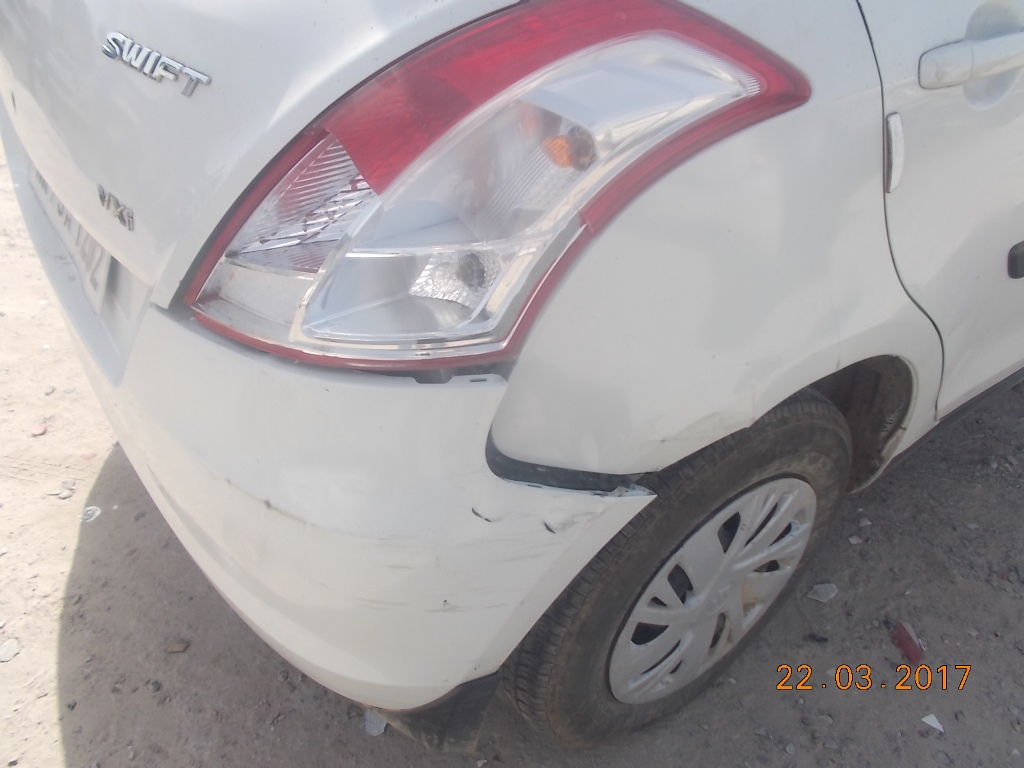Dislocation: (474, 430, 660, 528)
